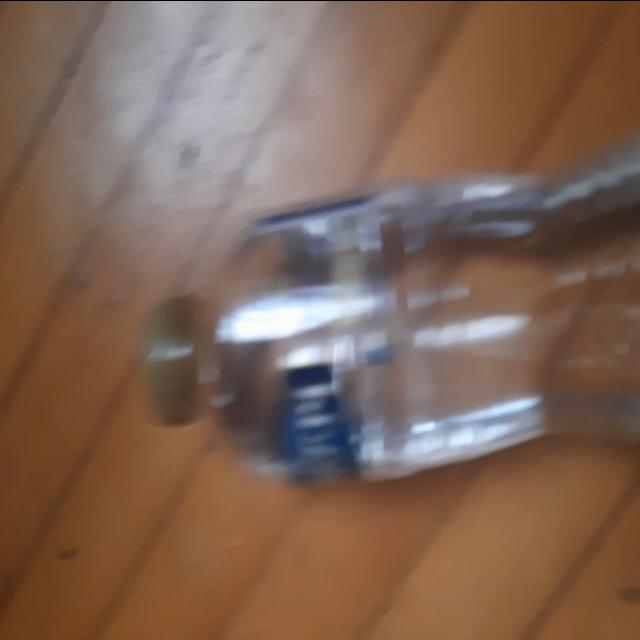Plastic: (140, 146, 640, 488)
